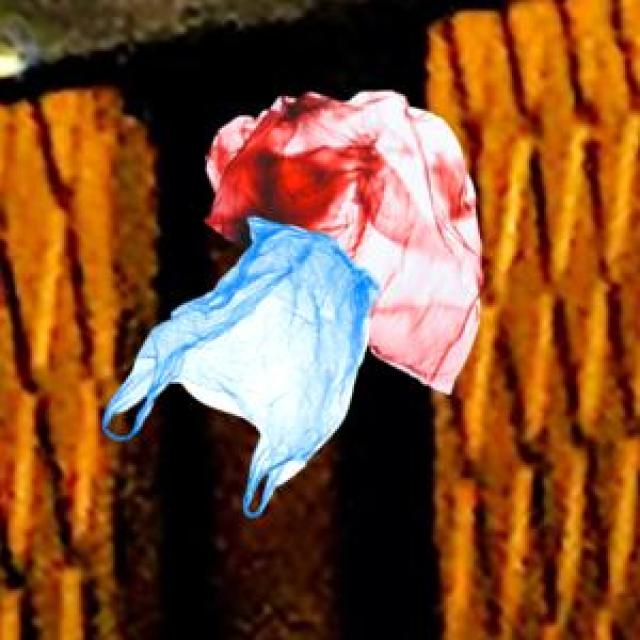plastic: (92, 63, 512, 508)
